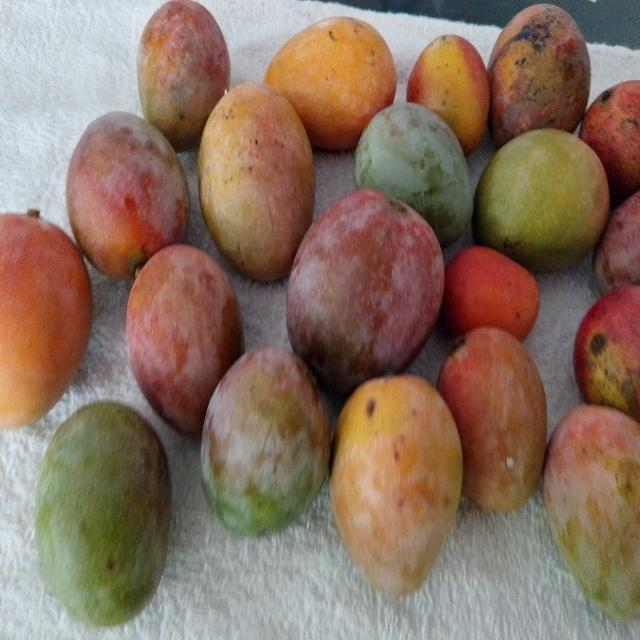mango: (282, 185, 444, 389), (36, 402, 171, 626), (330, 376, 462, 596), (202, 346, 330, 535), (198, 83, 315, 281), (66, 110, 190, 283), (0, 204, 94, 430), (544, 405, 639, 620), (440, 327, 547, 512), (473, 129, 609, 271), (264, 17, 396, 150), (355, 103, 472, 246), (488, 4, 590, 146), (137, 0, 230, 151), (406, 35, 489, 156), (448, 247, 540, 346), (576, 287, 640, 410), (583, 73, 640, 191)
